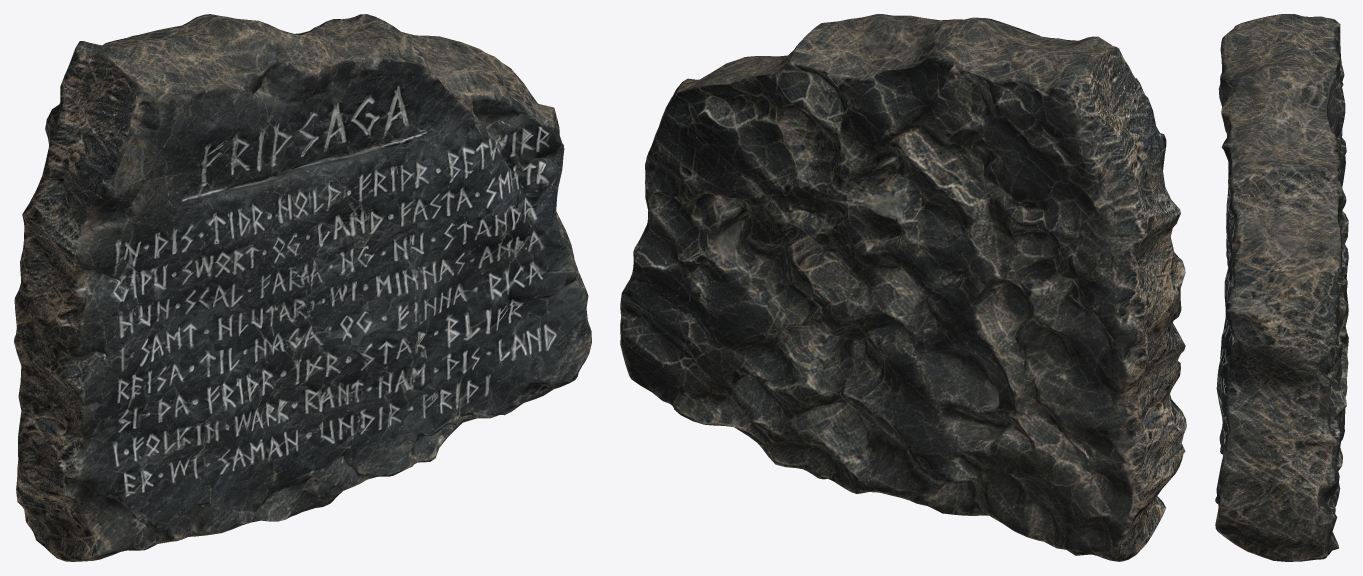
File: runic_stone_for_arcore.fbx
The picture shows the model from 3 angles, left to right: view 1: azimuth 30°, elevation 25°; view 2: azimuth 150°, elevation 25°; view 3: azimuth 270°, elevation 25°; orthographic projection. The views are drawn at different scales.
Parts seen in each view (by area): view 1: tripo_765512aa_a78f_4599_885f_51d1c9252332; view 2: tripo_765512aa_a78f_4599_885f_51d1c9252332; view 3: tripo_765512aa_a78f_4599_885f_51d1c9252332.
Boxes of the visible parts, <box> form: tripo_765512aa_a78f_4599_885f_51d1c9252332: <box>14,14,591,561</box>; tripo_765512aa_a78f_4599_885f_51d1c9252332: <box>620,14,1186,561</box>; tripo_765512aa_a78f_4599_885f_51d1c9252332: <box>1215,14,1348,561</box>.
Bounding box in the file's own units: 0.9995 × 0.8745 × 0.2495.
Materials: 1 (1 with a texture image).
